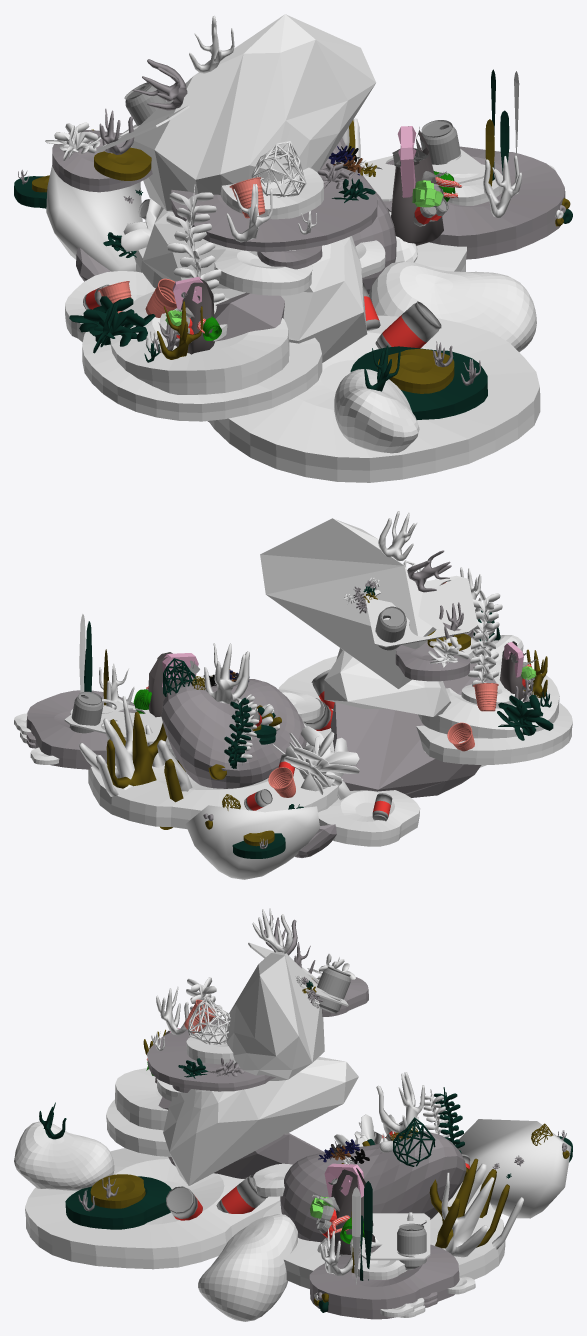
File: DEAD HOME.fbx
3 views of the same model, one above another, from view 1: azimuth 30°, elevation 25°; view 2: azimuth 150°, elevation 25°; view 3: azimuth 270°, elevation 25° (orthographic). The views are drawn at different scales.
Visible parts, largest first — view 1: Rocha_Grande.003_Icosphere.001, Cylinder.083, Rocha_Grande.003_Icosphere.000, Sphere, Cylinder.036, Cylinder.035, Cylinder.125, Cylinder.041, Rocha Grande.001, Plane.000, Sphere.005, Cylinder.085 (+32 smaller); view 2: Rocha_Grande.003_Icosphere.001, Sphere.008, Rocha_Grande.002_Icosphere.012, Cylinder.098, Rocha Grande.001, Rocha_Grande.003_Icosphere.000, Plane.001, Cylinder.036, Cylinder.104, Cylinder.125, Plane.064, Cylinder.035 (+25 smaller); view 3: Cylinder.083, Rocha_Grande.003_Icosphere.000, Sphere.008, Rocha_Grande.003_Icosphere.001, Rocha Grande.001, Sphere, Cylinder.125, Sphere.005, Cylinder.098, Cylinder.041, Plane.000, Cylinder.085 (+26 smaller).
Boxes of the visible parts, box(x1,y1,x2,y2) form: Rocha_Grande.003_Icosphere.001: box(130, 14, 376, 211); Cylinder.083: box(208, 315, 540, 482); Rocha_Grande.003_Icosphere.000: box(142, 207, 367, 362); Sphere: box(369, 261, 536, 352); Cylinder.036: box(82, 331, 322, 421); Cylinder.035: box(110, 291, 289, 394); Cylinder.125: box(383, 146, 565, 259); Cylinder.041: box(171, 163, 377, 252); Rocha Grande.001: box(46, 165, 142, 271); Plane.000: box(391, 126, 462, 245); Sphere.005: box(334, 369, 419, 453); Cylinder.085: box(350, 346, 487, 419); Rocha_Grande.003_Icosphere.001: box(260, 518, 436, 688); Sphere.008: box(161, 678, 306, 788); Rocha_Grande.002_Icosphere.012: box(330, 663, 496, 797); Cylinder.098: box(88, 742, 343, 829); Rocha Grande.001: box(185, 805, 319, 879); Rocha_Grande.003_Icosphere.000: box(324, 648, 450, 716); Plane.001: box(365, 575, 477, 650); Cylinder.036: box(416, 702, 572, 764); Cylinder.104: box(318, 790, 420, 846); Cylinder.125: box(26, 690, 144, 769); Plane.064: box(273, 726, 359, 800); Cylinder.035: box(418, 664, 559, 738); Cylinder.083: box(25, 1148, 280, 1269); Rocha_Grande.003_Icosphere.000: box(163, 1057, 358, 1185); Sphere.008: box(280, 1131, 466, 1242); Rocha_Grande.003_Icosphere.001: box(226, 952, 324, 1080); Rocha Grande.001: box(455, 1119, 571, 1218); Sphere: box(198, 1214, 297, 1321); Cylinder.125: box(309, 1244, 459, 1319); Sphere.005: box(14, 1121, 114, 1190); Cylinder.098: box(263, 1182, 505, 1288); Cylinder.041: box(147, 1019, 275, 1091); Plane.000: box(310, 1163, 375, 1255); Cylinder.085: box(65, 1176, 171, 1229).
Size of the model in its own units: 1393 by 890 by 1474.
